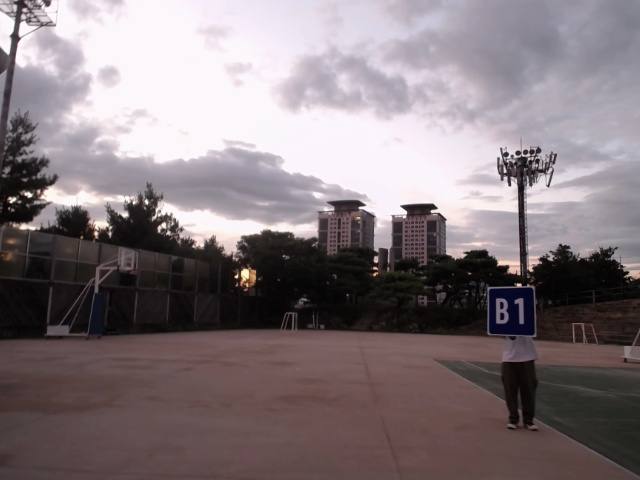delivery_b1: (488, 287, 536, 337)
